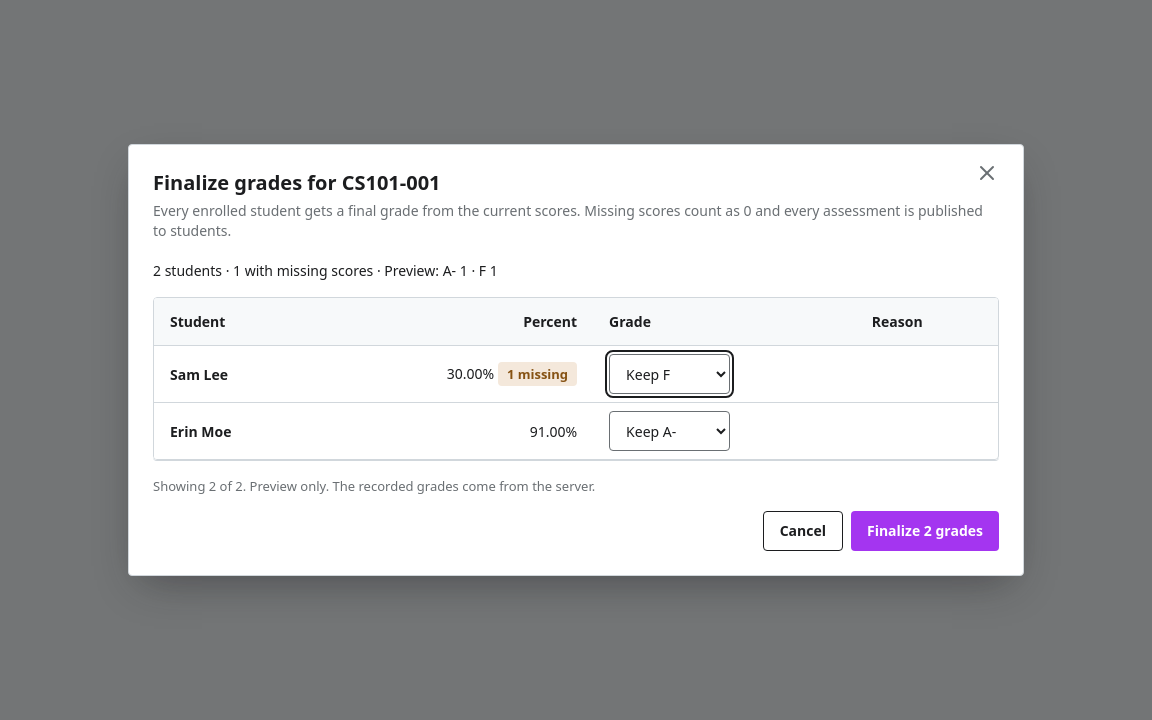
Test: maps a server override error onto its row
Select "B" in the dropdown named "Grade for Sam Lee". click: (670,374)
box: [609,354,730,394]
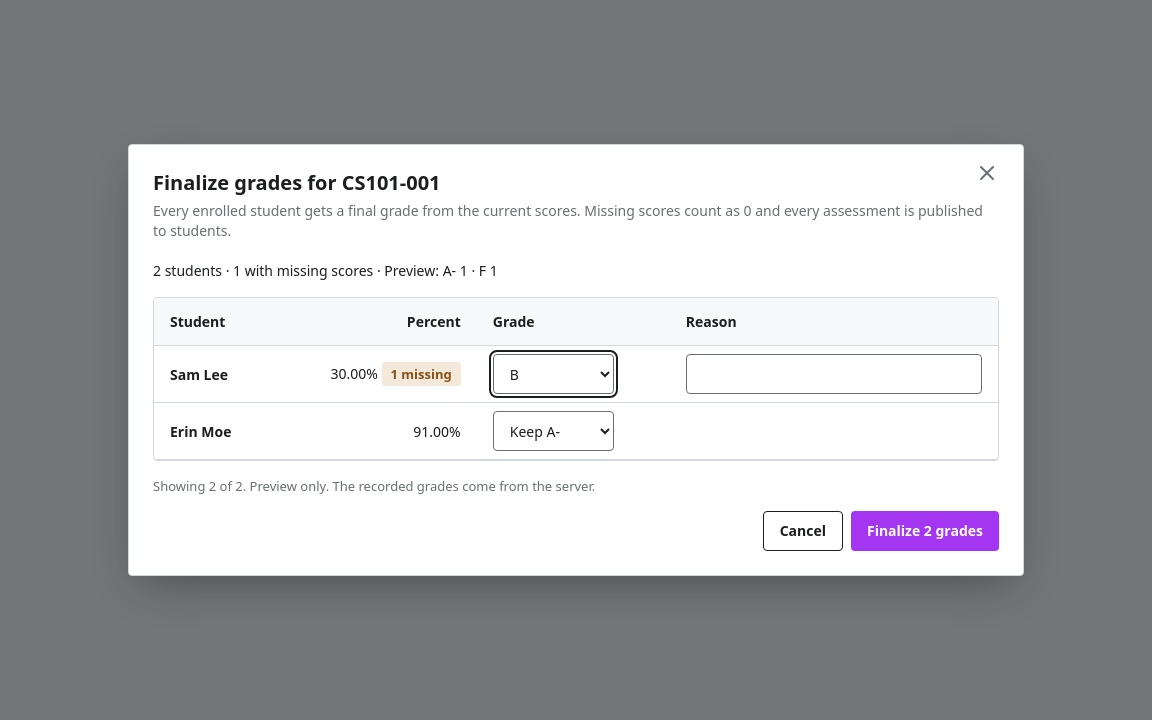
Type "x" into the field named "Reason for Sam Lee". click: (834,374)
box: [686,354,982,394]
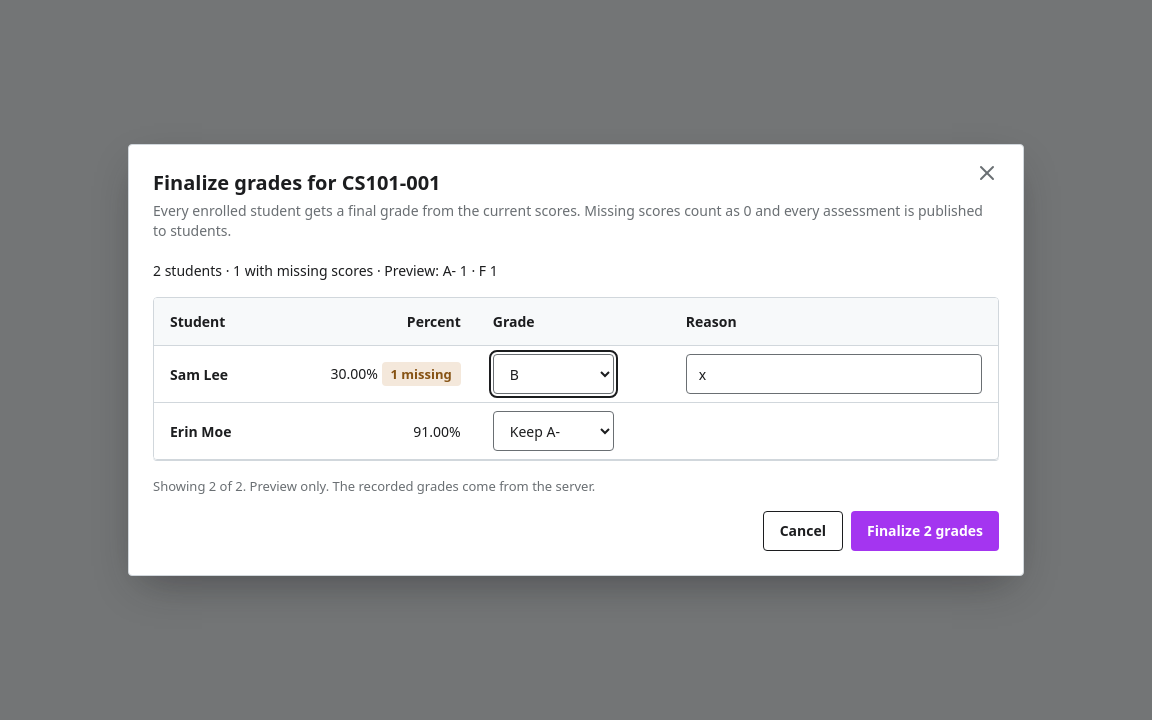
Click the button "Finalize 2 grades". click: (925,531)
box: [851,511,999,551]
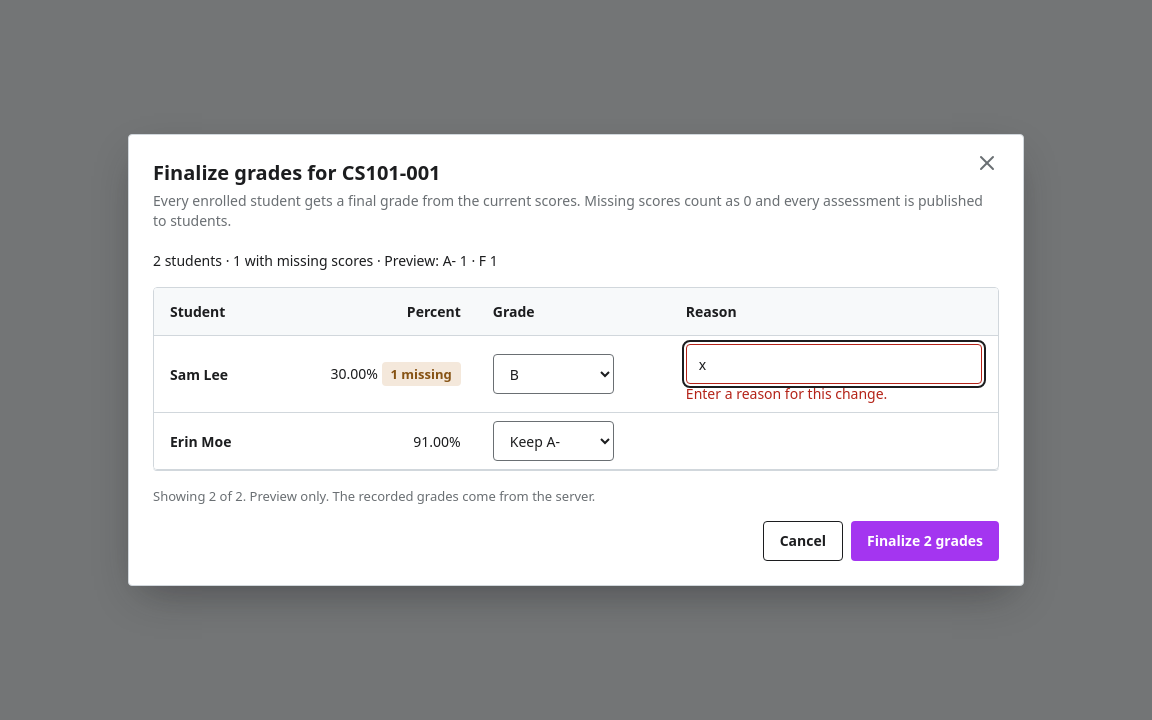
Check: the text "Enter a reason for this change." is shown, box [685,383,887,403]
